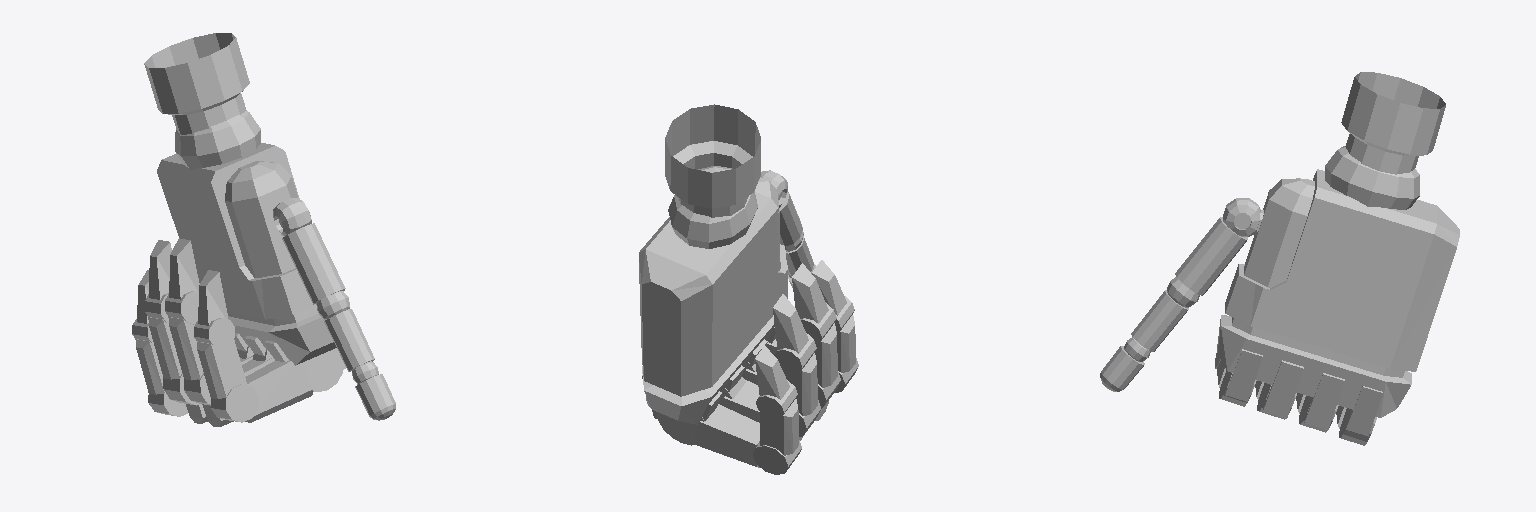
3 renders of one model, left to right at view 1: azimuth 30°, elevation 25°; view 2: azimuth 150°, elevation 25°; view 3: azimuth 270°, elevation 25°, orthographic.
Visible parts, largest first — view 1: H1 hands polySurface410, H1 hands polySurface408, H1 hands polySurface411, H1 hands polySurface409, H1 hands polySurface414, H1 hands polySurface422, H1 hands polySurface424, H1 hands polySurface416, H1 hands polySurface391, H1 hands polySurface389, H1 hands polySurface423, H1 hands polySurface418 (+12 smaller); view 2: H1 hands polySurface410, H1 hands polySurface408, H1 hands polySurface409, H1 hands polySurface403, H1 hands polySurface405, H1 hands polySurface391, H1 hands polySurface399, H1 hands polySurface407, H1 hands polySurface397, H1 hands polySurface389, H1 hands polySurface426, H1 hands polySurface404 (+8 smaller); view 3: H1 hands polySurface410, H1 hands polySurface408, H1 hands polySurface411, H1 hands polySurface409, H1 hands polySurface414, H1 hands polySurface416, H1 hands polySurface427, H1 hands polySurface392, H1 hands polySurface418, H1 hands polySurface413, H1 hands polySurface419, H1 hands polySurface400 (+1 smaller).
Part boxes in pixels (left/top/right/bottom): H1 hands polySurface410: left=157, top=143, right=336, bottom=365; H1 hands polySurface408: left=144, top=33, right=249, bottom=134; H1 hands polySurface411: left=225, top=161, right=297, bottom=277; H1 hands polySurface409: left=175, top=111, right=260, bottom=169; H1 hands polySurface414: left=282, top=223, right=345, bottom=304; H1 hands polySurface422: left=245, top=360, right=312, bottom=422; H1 hands polySurface424: left=197, top=340, right=246, bottom=398; H1 hands polySurface416: left=324, top=309, right=374, bottom=371; H1 hands polySurface391: left=169, top=238, right=199, bottom=299; H1 hands polySurface389: left=168, top=317, right=203, bottom=380; H1 hands polySurface423: left=210, top=384, right=258, bottom=422; H1 hands polySurface418: left=355, top=374, right=395, bottom=420; H1 hands polySurface410: left=639, top=192, right=787, bottom=424; H1 hands polySurface408: left=665, top=104, right=760, bottom=217; H1 hands polySurface409: left=668, top=166, right=757, bottom=248; H1 hands polySurface403: left=694, top=404, right=759, bottom=467; H1 hands polySurface405: left=760, top=399, right=798, bottom=455; H1 hands polySurface391: left=792, top=263, right=828, bottom=323; H1 hands polySurface399: left=773, top=294, right=808, bottom=353; H1 hands polySurface407: left=755, top=345, right=789, bottom=399; H1 hands polySurface397: left=784, top=353, right=817, bottom=415; H1 hands polySurface389: left=815, top=323, right=837, bottom=387; H1 hands polySurface426: left=812, top=260, right=846, bottom=315; H1 hands polySurface404: left=753, top=440, right=801, bottom=474; H1 hands polySurface410: left=1217, top=169, right=1459, bottom=417; H1 hands polySurface408: left=1341, top=72, right=1445, bottom=174; H1 hands polySurface411: left=1244, top=178, right=1314, bottom=287; H1 hands polySurface409: left=1325, top=146, right=1419, bottom=209; H1 hands polySurface414: left=1175, top=217, right=1247, bottom=295; H1 hands polySurface416: left=1131, top=290, right=1188, bottom=351; H1 hands polySurface427: left=1263, top=360, right=1303, bottom=418; H1 hands polySurface392: left=1304, top=373, right=1344, bottom=429; H1 hands polySurface418: left=1100, top=346, right=1144, bottom=391; H1 hands polySurface413: left=1223, top=198, right=1260, bottom=236; H1 hands polySurface419: left=1225, top=349, right=1262, bottom=401; H1 hands polySurface400: left=1346, top=386, right=1382, bottom=436.
Size of the model in its own units: 8.06 by 18.32 by 16.82.